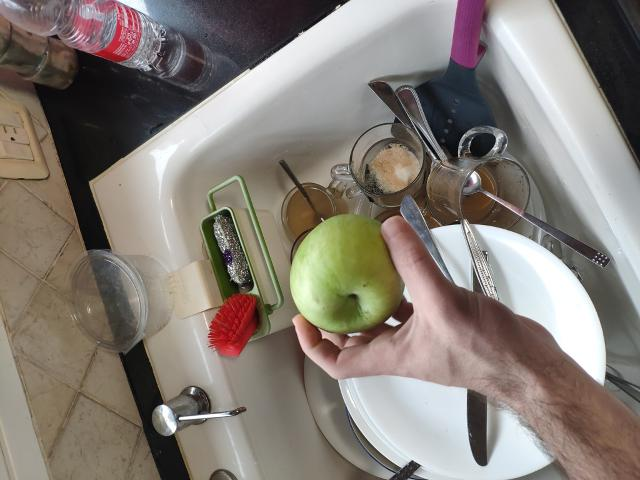apple: (285, 210, 416, 341)
